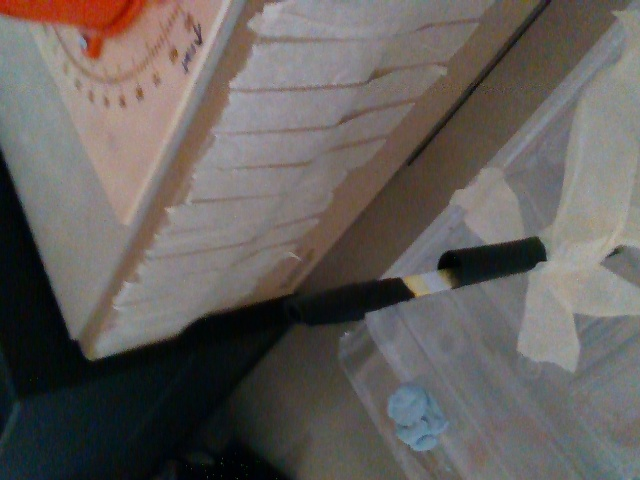test_strip: (297, 267, 452, 325)
